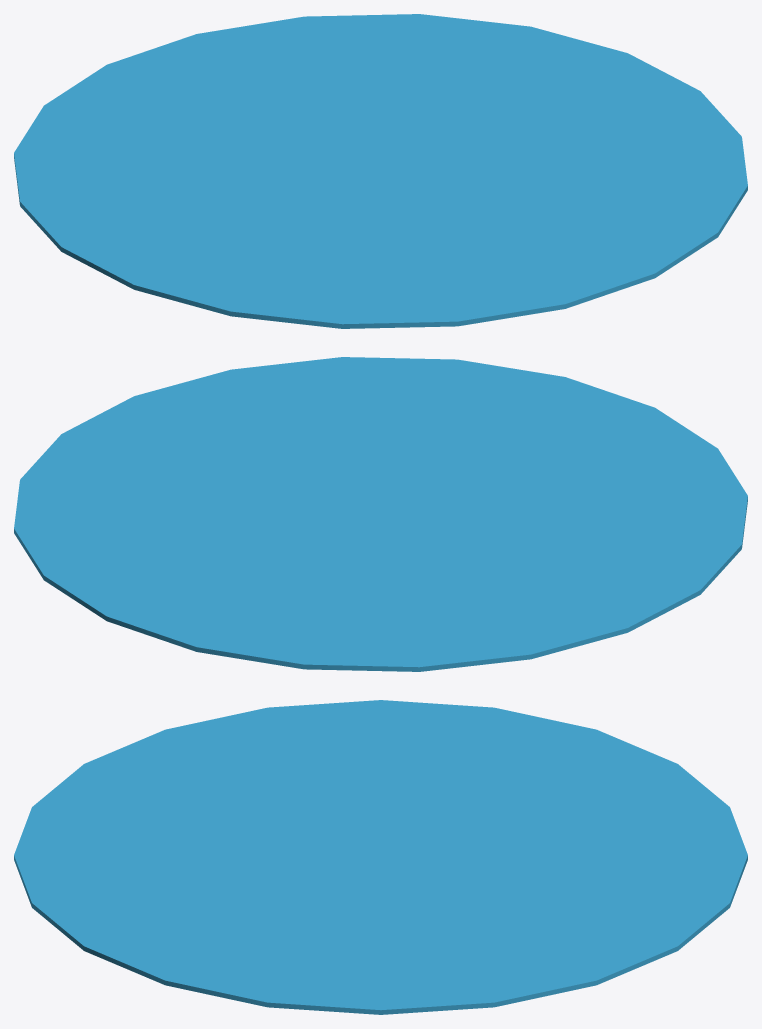
Rendered from All.fbx.
3 renders of one model, top to bottom at view 1: azimuth 30°, elevation 25°; view 2: azimuth 150°, elevation 25°; view 3: azimuth 270°, elevation 25°, orthographic.
Visible parts, largest first — view 1: polySurface71; view 2: polySurface71; view 3: polySurface71.
Part boxes in pixels (box(x1,y1,x2,y2)): polySurface71: box(14, 14, 747, 328); polySurface71: box(14, 357, 747, 671); polySurface71: box(14, 700, 747, 1014).
Bounding box in the file's own units: 25858 × 2046 × 25858.
